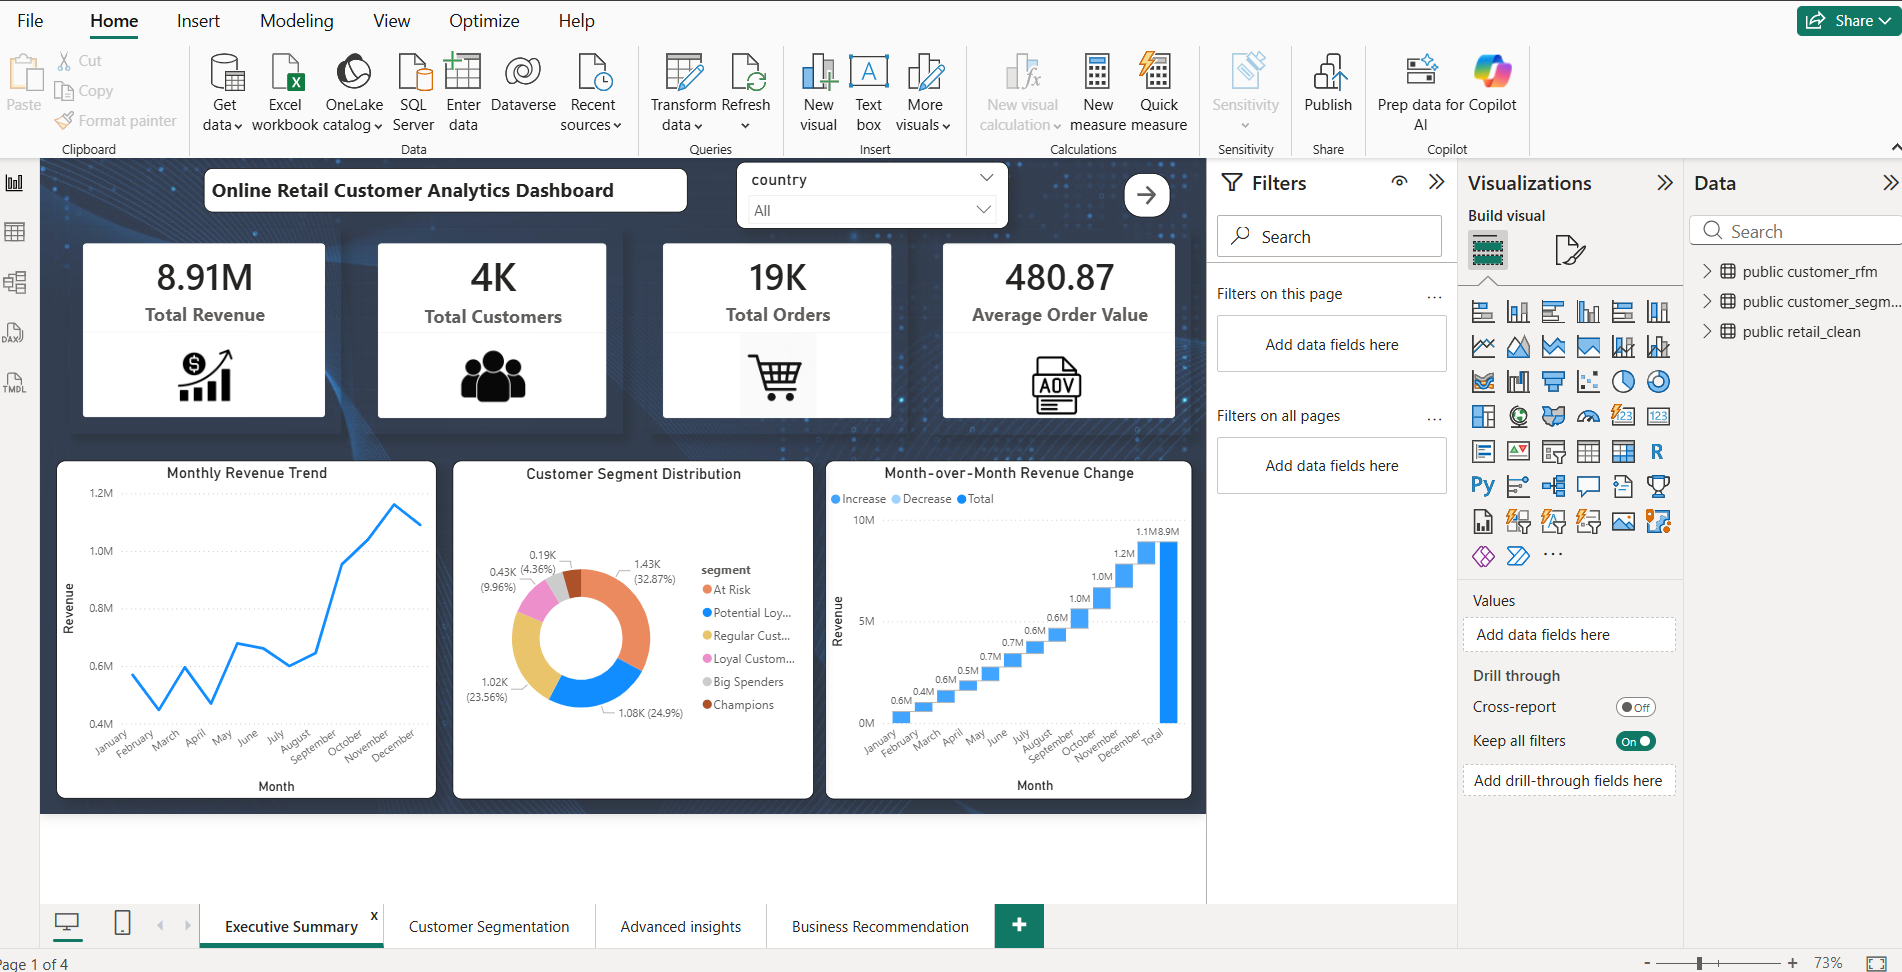

Layout of this report page (visuals, bound fields, positions):
{"tool":"powerbi","page":{"name":"Executive Summary","canvas":[1280,720],"ordinal":0},"visuals":[{"type":"cardVisual","fields":{"Data":["public customer_rfm.Total Revenue"]},"box":[30,77.1,300,225.7],"z":0},{"type":"cardVisual","fields":{"Data":["public customer_rfm.Total Customers"]},"box":[354,76.8,285.4,226.4],"z":1000},{"type":"cardVisual","fields":{"Data":["public customer_rfm.Total Orders"]},"box":[666.9,76.8,285.4,226.4],"z":2000},{"type":"cardVisual","fields":{"Data":["public customer_rfm.Average Order Value"]},"box":[974.8,77.2,289.5,226.8],"z":3000},{"type":"lineChart","title":"Monthly Revenue Trend","fields":{"Category":["public retail_clean.invoicedate.Variation.Date Hierarchy.Month"],"Y":["Sum(public retail_clean.revenue)"]},"box":[18.1,331.8,417.4,371.6],"z":4000},{"type":"waterfallChart","title":"Month-over-Month Revenue Change","fields":{"Category":["public retail_clean.invoicedate.Variation.Date Hierarchy.Month"],"Y":["Sum(public retail_clean.revenue)"]},"box":[861.7,331.7,403.3,371.7],"z":5000},{"type":"textbox","box":[180,11.4,531.4,48.6],"z":6000},{"type":"actionButton","box":[1190,16.2,51.2,48.8],"z":7000},{"type":"slicer","title":"Filter by Country","fields":{"Values":["public retail_clean.country"]},"box":[763.7,3.6,299.2,73.6],"z":8000},{"type":"donutChart","title":"Customer Segment Distribution","fields":{"Category":["public customer_segments.segment"],"Y":["Count(public retail_clean.customerid)"]},"box":[453.3,331.7,396.7,371.7],"z":9000}]}

Visuals, with their boxes on the page's 1280x720 design canvas (x1, y1, x2, y2). These are canvas units, not pixel positions in the 1902x972 screenshot, which may show the page scaled, cropped or inside an application window:
cardVisual - public customer_rfm.Total Revenue: select_region(30, 77, 330, 303)
cardVisual - public customer_rfm.Total Customers: select_region(354, 77, 639, 303)
cardVisual - public customer_rfm.Total Orders: select_region(667, 77, 952, 303)
cardVisual - public customer_rfm.Average Order Value: select_region(975, 77, 1264, 304)
"Monthly Revenue Trend" lineChart: select_region(18, 332, 436, 703)
"Month-over-Month Revenue Change" waterfallChart: select_region(862, 332, 1265, 703)
textbox: select_region(180, 11, 711, 60)
actionButton: select_region(1190, 16, 1241, 65)
"Filter by Country" slicer: select_region(764, 4, 1063, 77)
"Customer Segment Distribution" donutChart: select_region(453, 332, 850, 703)
